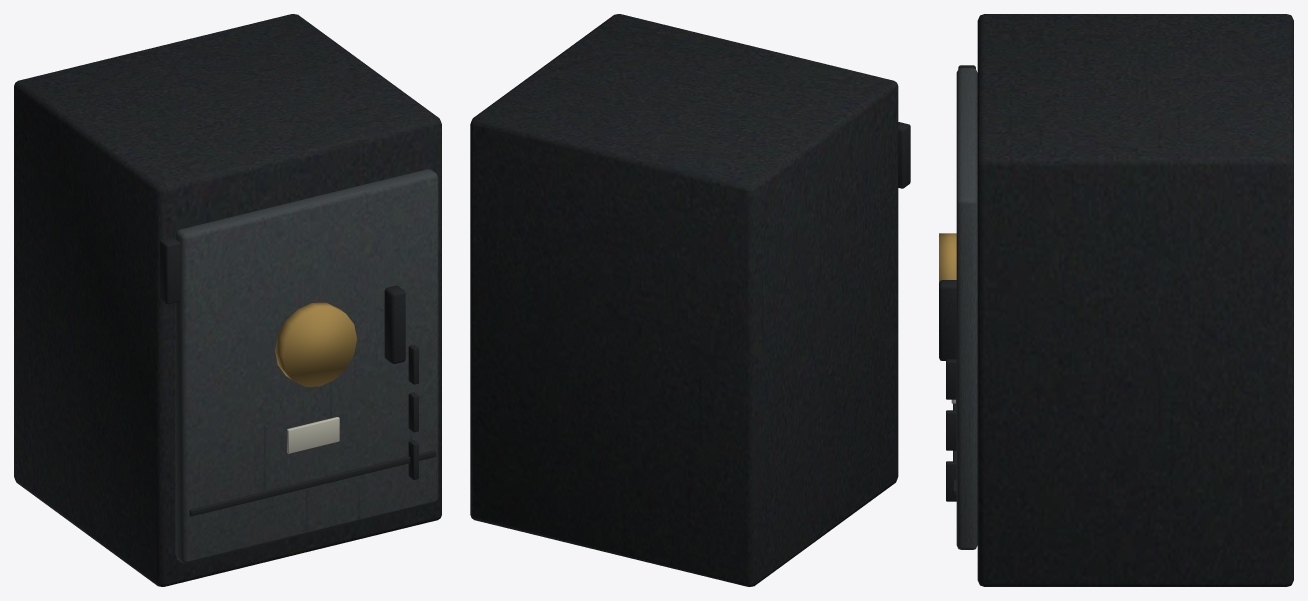
File: prop_safe.glb
The picture shows the model from 3 angles, left to right: view 1: azimuth 30°, elevation 25°; view 2: azimuth 150°, elevation 25°; view 3: azimuth 270°, elevation 25°; orthographic projection. The views are drawn at different scales.
Visible parts, largest first — view 1: PropMesh; view 2: PropMesh; view 3: PropMesh.
Part boxes in pixels (x1,y1,x2,y2): PropMesh: [14, 14, 441, 586]; PropMesh: [470, 14, 910, 586]; PropMesh: [939, 14, 1293, 586].
Bounding box in the file's own units: 1 × 1.35 × 1.01.
Materials: 4 (2 with a texture image).
